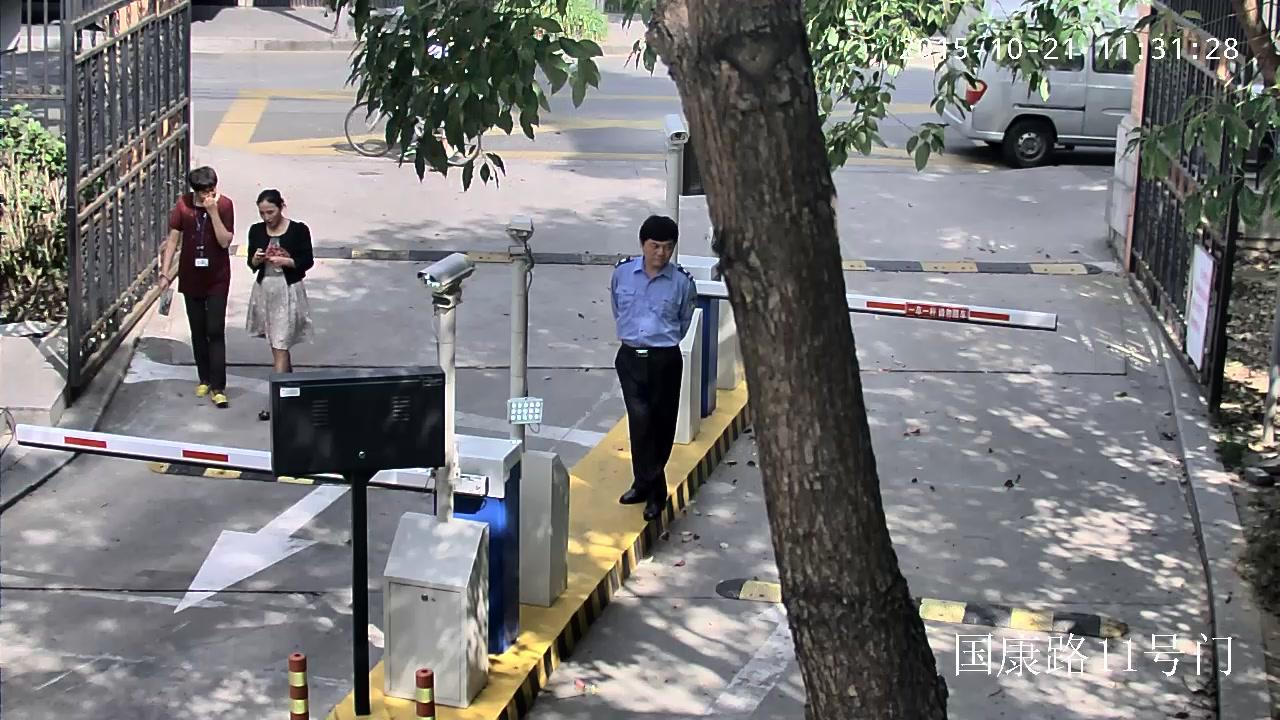person: (610, 216, 696, 522), (159, 166, 234, 406), (248, 189, 313, 420)
